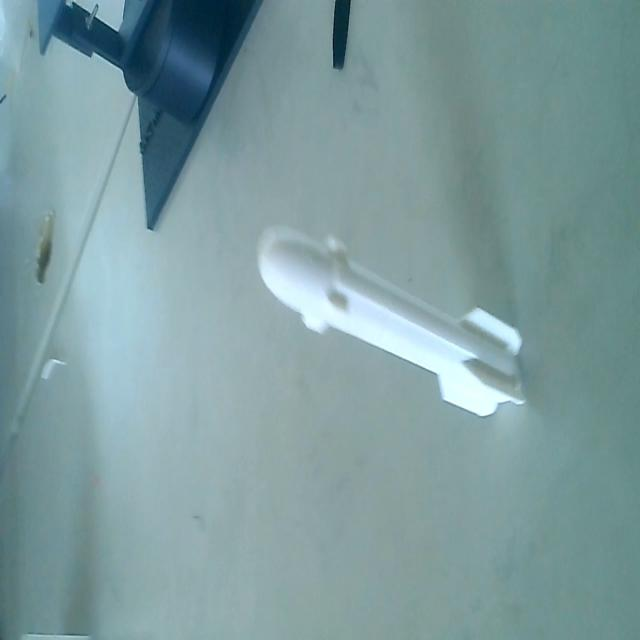Rocket: (258, 221, 526, 425)
